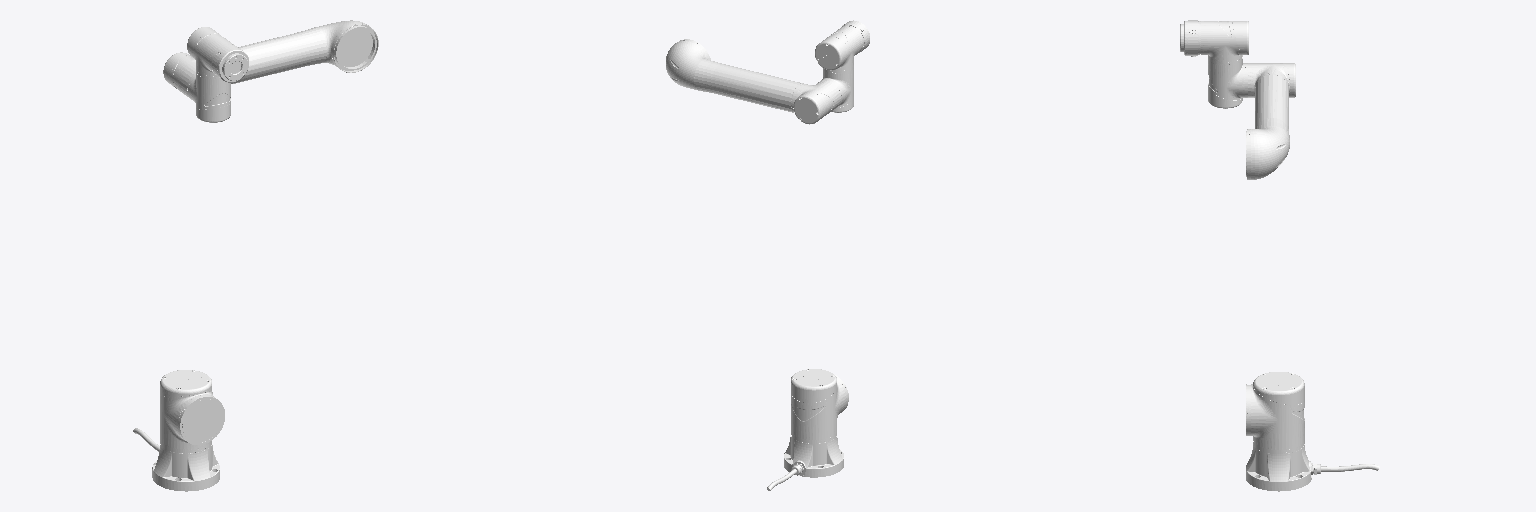
robot.urdf — R6.SLDASM:
<?xml version="1.0" encoding="utf-8"?>
<!-- This URDF was automatically created by SolidWorks to URDF Exporter! Originally created by Stephen Brawner (brawner@gmail.com) 
     Commit Version: 1.6.0-4-g7f85cfe  Build Version: 1.6.7995.38578
     For more information, please see http://wiki.ros.org/sw_urdf_exporter -->
<robot
  name="R6.SLDASM">
  <link
    name="base_link">
    <inertial>
      <origin
        xyz="1.7601E-06 0.0024492 -0.053766"
        rpy="0 0 0" />
      <mass
        value="1.2411" />
      <inertia
        ixx="0.0022415"
        ixy="-6.7738E-09"
        ixz="4.0519E-08"
        iyy="0.0022228"
        iyz="-3.1256E-06"
        izz="0.0026546" />
    </inertial>
    <visual>
      <origin
        xyz="0 0 0"
        rpy="0 0 0" />
      <geometry>
        <mesh
          filename="package://R6.SLDASM/meshes/base_link.STL" />
      </geometry>
      <material
        name="">
        <color
          rgba="1 1 1 1" />
      </material>
    </visual>
    <collision>
      <origin
        xyz="0 0 0"
        rpy="0 0 0" />
      <geometry>
        <mesh
          filename="package://R6.SLDASM/meshes/base_link.STL" />
      </geometry>
    </collision>
  </link>
  <link
    name="J1_Link">
    <inertial>
      <origin
        xyz="-5.5165E-07 0.00034661 -0.065302"
        rpy="0 0 0" />
      <mass
        value="1.7718" />
      <inertia
        ixx="0.0036161"
        ixy="-5.0191E-08"
        ixz="3.044E-08"
        iyy="0.0034603"
        iyz="-0.00031259"
        izz="0.0032856" />
    </inertial>
    <visual>
      <origin
        xyz="0 0 0"
        rpy="0 0 0" />
      <geometry>
        <mesh
          filename="package://R6.SLDASM/meshes/J1_Link.STL" />
      </geometry>
      <material
        name="">
        <color
          rgba="1 1 1 1" />
      </material>
    </visual>
    <collision>
      <origin
        xyz="0 0 0"
        rpy="0 0 0" />
      <geometry>
        <mesh
          filename="package://R6.SLDASM/meshes/J1_Link.STL" />
      </geometry>
    </collision>
  </link>
  <joint
    name="J1"
    type="revolute">
    <origin
      xyz="0 -0.0732 0.0715"
      rpy="1.5708 0 0" />
    <parent
      link="base_link" />
    <child
      link="J1_Link" />
    <axis
      xyz="0 -1 0" />
    <limit
      lower="-6.283"
      upper="6.283"
      effort="0"
      velocity="0" />
  </joint>
  <link
    name="J2_Link">
    <inertial>
      <origin
        xyz="-0.21229 1.2183E-07 -0.071719"
        rpy="0 0 0" />
      <mass
        value="5.5901" />
      <inertia
        ixx="0.0089952"
        ixy="-3.5737E-08"
        ixz="-9.5329E-10"
        iyy="0.024333"
        iyz="6.5749E-09"
        izz="0.024022" />
    </inertial>
    <visual>
      <origin
        xyz="0 0 0"
        rpy="0 0 0" />
      <geometry>
        <mesh
          filename="package://R6.SLDASM/meshes/J2_Link.STL" />
      </geometry>
      <material
        name="">
        <color
          rgba="1 1 1 1" />
      </material>
    </visual>
    <collision>
      <origin
        xyz="0 0 0"
        rpy="0 0 0" />
      <geometry>
        <mesh
          filename="package://R6.SLDASM/meshes/J2_Link.STL" />
      </geometry>
    </collision>
  </link>
  <joint
    name="J2"
    type="revolute">
    <origin
      xyz="0 0.4245 0"
      rpy="3.1416 0 1.5708" />
    <parent
      link="J1_Link" />
    <child
      link="J2_Link" />
    <axis
      xyz="0 0 1" />
    <limit
      lower="-6.283"
      upper="6.283"
      effort="0"
      velocity="0" />
  </joint>
  <link
    name="J3_Link">
    <inertial>
      <origin
        xyz="-0.19703 -3.0248E-06 -0.050257"
        rpy="0 0 0" />
      <mass
        value="2.5895" />
      <inertia
        ixx="0.0022576"
        ixy="-6.5374E-08"
        ixz="8.2622E-05"
        iyy="0.011067"
        iyz="1.1854E-07"
        izz="0.011146" />
    </inertial>
    <visual>
      <origin
        xyz="0 0 0"
        rpy="0 0 0" />
      <geometry>
        <mesh
          filename="package://R6.SLDASM/meshes/J3_Link.STL" />
      </geometry>
      <material
        name="">
        <color
          rgba="1 1 1 1" />
      </material>
    </visual>
    <collision>
      <origin
        xyz="0 0 0"
        rpy="0 0 0" />
      <geometry>
        <mesh
          filename="package://R6.SLDASM/meshes/J3_Link.STL" />
      </geometry>
    </collision>
  </link>
  <joint
    name="J3"
    type="revolute">
    <origin
      xyz="0.393 0 0.004"
      rpy="3.1416 0 0" />
    <parent
      link="J2_Link" />
    <child
      link="J3_Link" />
    <axis
      xyz="0 0 -1" />
    <limit
      lower="-2.88"
      upper="2.88"
      effort="0"
      velocity="0" />
  </joint>
  <link
    name="J4_Link">
    <inertial>
      <origin
        xyz="-1.4824E-05 0.0055663 -0.054124"
        rpy="0 0 0" />
      <mass
        value="0.58902" />
      <inertia
        ixx="0.00056398"
        ixy="3.9788E-08"
        ixz="1.0499E-07"
        iyy="0.00050613"
        iyz="5.9253E-05"
        izz="0.00051321" />
    </inertial>
    <visual>
      <origin
        xyz="0 0 0"
        rpy="0 0 0" />
      <geometry>
        <mesh
          filename="package://R6.SLDASM/meshes/J4_Link.STL" />
      </geometry>
      <material
        name="">
        <color
          rgba="1 1 1 1" />
      </material>
    </visual>
    <collision>
      <origin
        xyz="0 0 0"
        rpy="0 0 0" />
      <geometry>
        <mesh
          filename="package://R6.SLDASM/meshes/J4_Link.STL" />
      </geometry>
    </collision>
  </link>
  <joint
    name="J4"
    type="revolute">
    <origin
      xyz="0.0542 0 0.051"
      rpy="-1.5708 0 -1.5708" />
    <parent
      link="J3_Link" />
    <child
      link="J4_Link" />
    <axis
      xyz="0 -1 0" />
    <limit
      lower="-6.283"
      upper="6.283"
      effort="0"
      velocity="0" />
  </joint>
  <link
    name="J5_Link">
    <inertial>
      <origin
        xyz="1.3819E-05 -0.0055658 -0.053924"
        rpy="0 0 0" />
      <mass
        value="0.58903" />
      <inertia
        ixx="0.000564"
        ixy="6.8073E-08"
        ixz="-1.2514E-07"
        iyy="0.00050616"
        iyz="-5.9246E-05"
        izz="0.00051326" />
    </inertial>
    <visual>
      <origin
        xyz="0 0 0"
        rpy="0 0 0" />
      <geometry>
        <mesh
          filename="package://R6.SLDASM/meshes/J5_Link.STL" />
      </geometry>
      <material
        name="">
        <color
          rgba="1 1 1 1" />
      </material>
    </visual>
    <collision>
      <origin
        xyz="0 0 0"
        rpy="0 0 0" />
      <geometry>
        <mesh
          filename="package://R6.SLDASM/meshes/J5_Link.STL" />
      </geometry>
    </collision>
  </link>
  <joint
    name="J5"
    type="revolute">
    <origin
      xyz="0 -0.054 0.051"
      rpy="1.5708 0 0" />
    <parent
      link="J4_Link" />
    <child
      link="J5_Link" />
    <axis
      xyz="0 1 0" />
    <limit
      lower="-6.283"
      upper="6.283"
      effort="0"
      velocity="0" />
  </joint>
  <link
    name="J6_Link">
    <inertial>
      <origin
        xyz="-7.2724E-08 1.8938E-06 -0.024928"
        rpy="0 0 0" />
      <mass
        value="0.2059" />
      <inertia
        ixx="8.3442E-05"
        ixy="-6.2623E-11"
        ixz="1.877E-10"
        iyy="8.4686E-05"
        iyz="-9.4221E-09"
        izz="0.00014583" />
    </inertial>
    <visual>
      <origin
        xyz="0 0 0"
        rpy="0 0 0" />
      <geometry>
        <mesh
          filename="package://R6.SLDASM/meshes/J6_Link.STL" />
      </geometry>
      <material
        name="">
        <color
          rgba="1 1 1 1" />
      </material>
    </visual>
    <collision>
      <origin
        xyz="0 0 0"
        rpy="0 0 0" />
      <geometry>
        <mesh
          filename="package://R6.SLDASM/meshes/J6_Link.STL" />
      </geometry>
    </collision>
  </link>
  <joint
    name="J6"
    type="revolute">
    <origin
      xyz="0 0 0.0478"
      rpy="0 0 0" />
    <parent
      link="J5_Link" />
    <child
      link="J6_Link" />
    <axis
      xyz="0 0 1" />
    <limit
      lower="-6.283"
      upper="6.283"
      effort="0"
      velocity="0" />
  </joint>
</robot>

--- What the picture shows (computed from the rendered views, not written in the file) ---
The picture shows the robot from 3 angles, left to right: view 1: azimuth 30°, elevation 25°; view 2: azimuth 150°, elevation 25°; view 3: azimuth 270°, elevation 25°; orthographic projection.
Model R6.SLDASM with 7 links and 6 joints (6 revolute), rooted at base_link, posed all joints at 0.
Visible links, largest first — view 1: J3_Link, J1_Link, base_link, J4_Link, J5_Link, J6_Link; view 2: J3_Link, J1_Link, base_link, J5_Link, J4_Link; view 3: J3_Link, J1_Link, base_link, J5_Link, J4_Link, J6_Link.
Boxes of the visible links, x1=… form: J3_Link: x1=163, y1=20, x2=378, y2=96; J1_Link: x1=160, y1=370, x2=224, y2=449; base_link: x1=133, y1=428, x2=219, y2=491; J4_Link: x1=187, y1=73, x2=230, y2=122; J5_Link: x1=187, y1=27, x2=233, y2=78; J6_Link: x1=211, y1=44, x2=248, y2=82; J3_Link: x1=666, y1=39, x2=841, y2=124; J1_Link: x1=791, y1=369, x2=848, y2=439; base_link: x1=767, y1=433, x2=843, y2=490; J5_Link: x1=815, y1=26, x2=862, y2=73; J4_Link: x1=821, y1=68, x2=853, y2=112; J3_Link: x1=1246, y1=63, x2=1295, y2=179; J1_Link: x1=1246, y1=372, x2=1304, y2=449; base_link: x1=1246, y1=440, x2=1379, y2=491; J5_Link: x1=1201, y1=21, x2=1248, y2=64; J4_Link: x1=1208, y1=58, x2=1247, y2=108; J6_Link: x1=1180, y1=20, x2=1200, y2=56.
Bounding box of the posed robot: 0.526 × 0.4489 × 1.13 m (x, y, z).
6 mesh visuals loaded from 7 distinct referenced files (6 binary STL); not drawn: 1 (reference not matched to a file when rendering).
